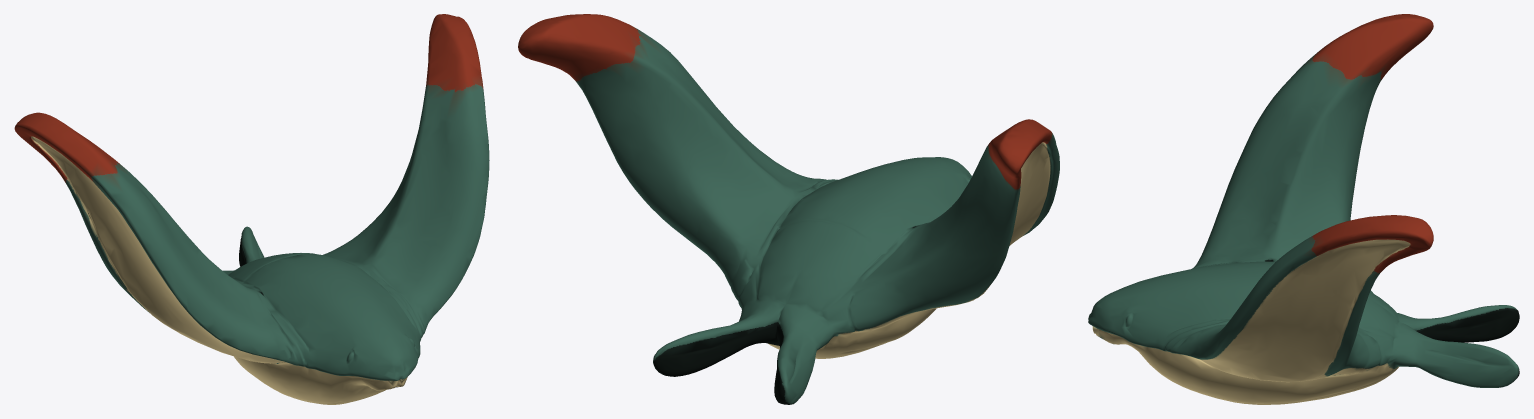
File: tripo-lod.glb
3 views of the same model, side by side, from view 1: azimuth 30°, elevation 25°; view 2: azimuth 150°, elevation 25°; view 3: azimuth 270°, elevation 25° (orthographic). The views are drawn at different scales.
Parts seen in each view (by area): view 1: storm ray tripo lod; view 2: storm ray tripo lod; view 3: storm ray tripo lod.
Part boxes in pixels (<box>): storm ray tripo lod: <box>14,14,489,404</box>; storm ray tripo lod: <box>518,14,1059,404</box>; storm ray tripo lod: <box>1088,14,1519,404</box>.
Bounding box in the file's own units: 2.78 × 1.64 × 2.3.
Materials: 1 (1 with a texture image).
